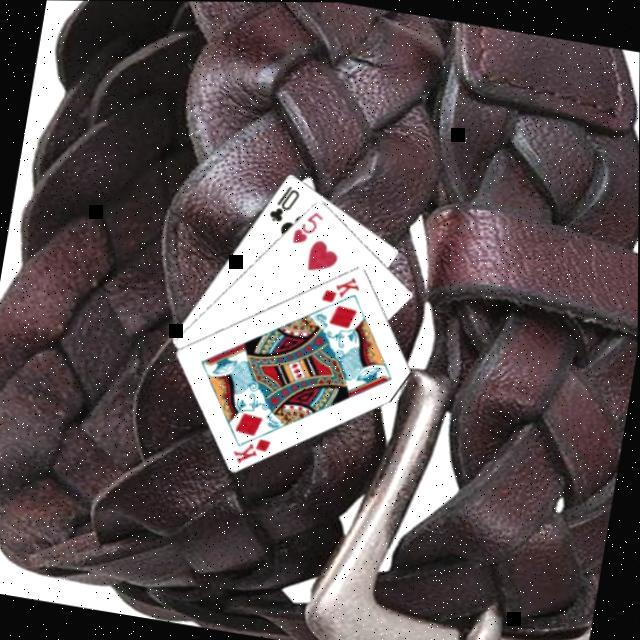10C: (264, 180, 302, 228)
5H: (287, 205, 326, 250)
KD: (317, 270, 364, 310), (228, 431, 274, 471)
